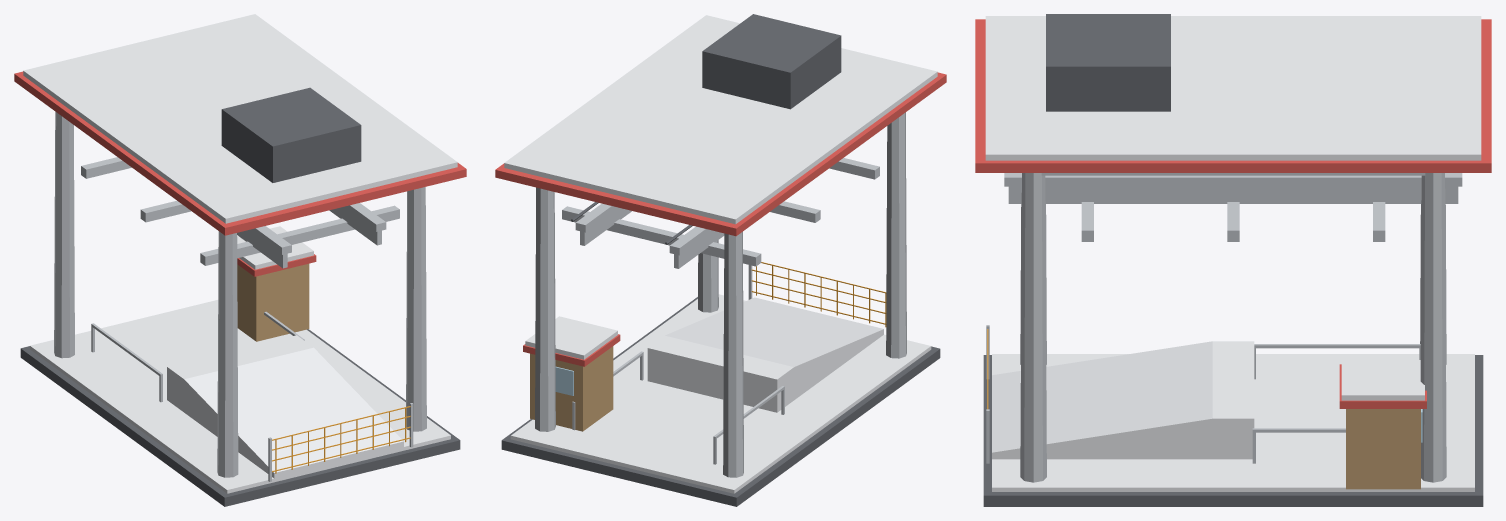
The model's file is lifttop.glb.
The picture shows the model from 3 angles, left to right: view 1: azimuth 30°, elevation 25°; view 2: azimuth 150°, elevation 25°; view 3: azimuth 270°, elevation 25°; orthographic projection. The views are drawn at different scales.
Visible parts, largest first — view 1: lift-top-station; view 2: lift-top-station; view 3: lift-top-station.
Part boxes in pixels (<box>): lift-top-station: <box>14,14,466,506</box>; lift-top-station: <box>495,14,946,506</box>; lift-top-station: <box>975,14,1491,506</box>.
Size of the model in its own units: 8.2 by 10.5 by 12.4.
